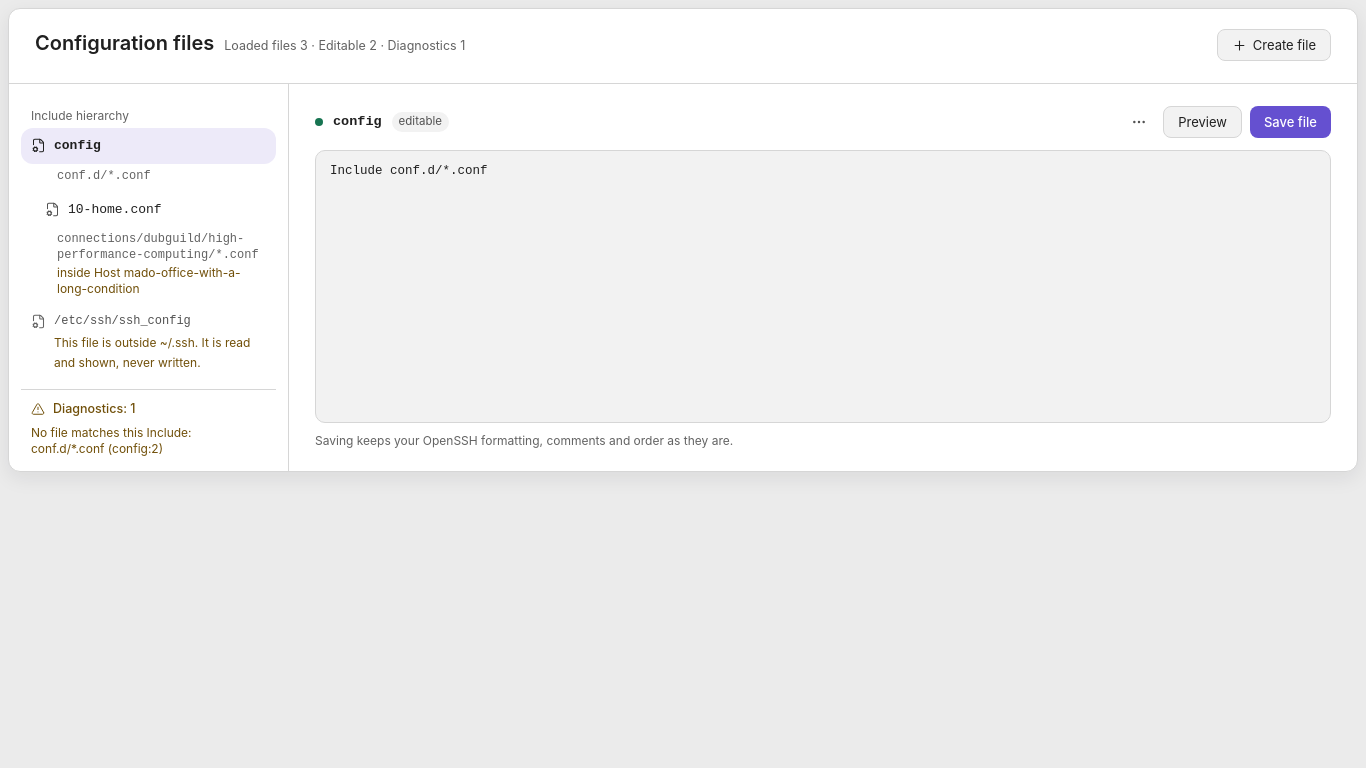
Test: ConfigExplorer › explains a path outside ~/.ssh under the field and sends nothing
This screenshot has width=1366, height=768.
Click the button named "Actions for config" at (1139, 122), box [1123,106,1155,138]
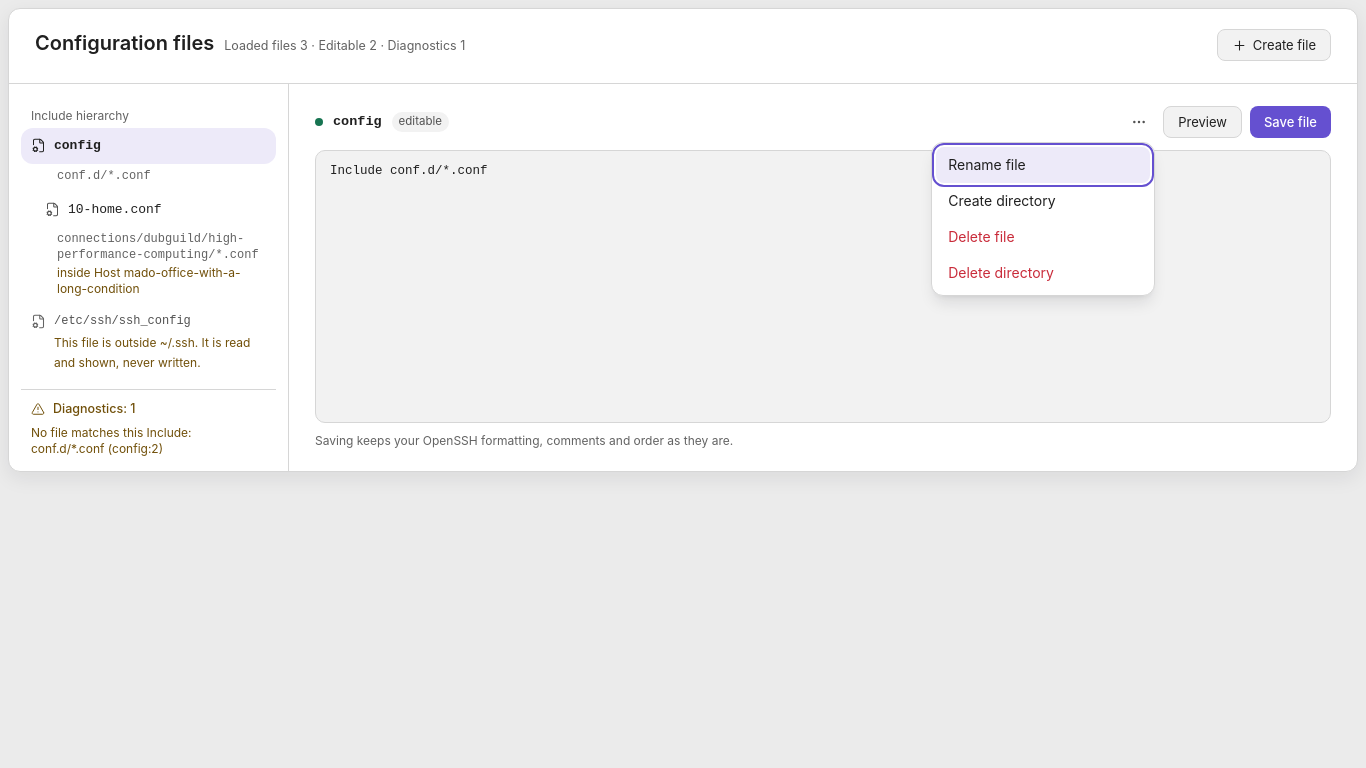
Click the menu item "Create directory" at (1043, 201), box [936,183,1150,219]
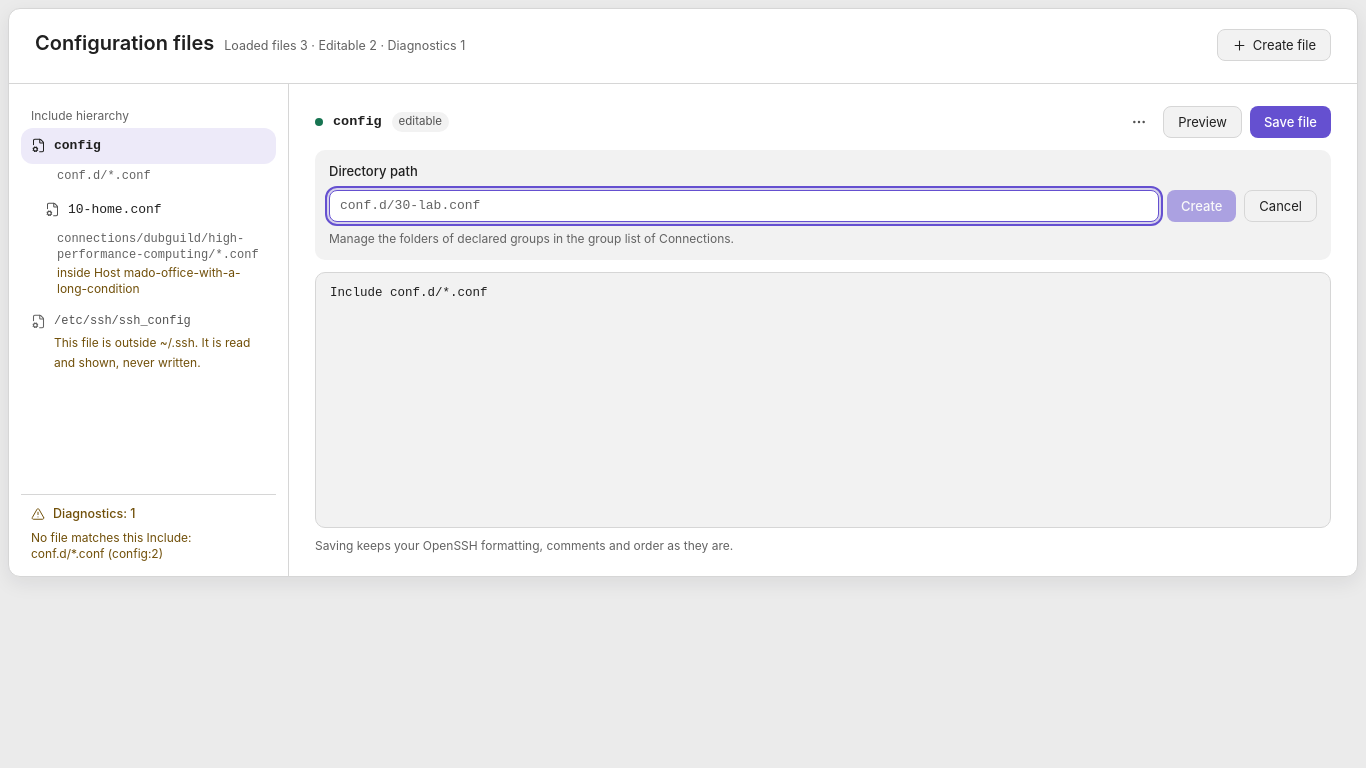
Type "~/notes" into the field labelled "Directory path" at (744, 206), box [329,190,1159,222]
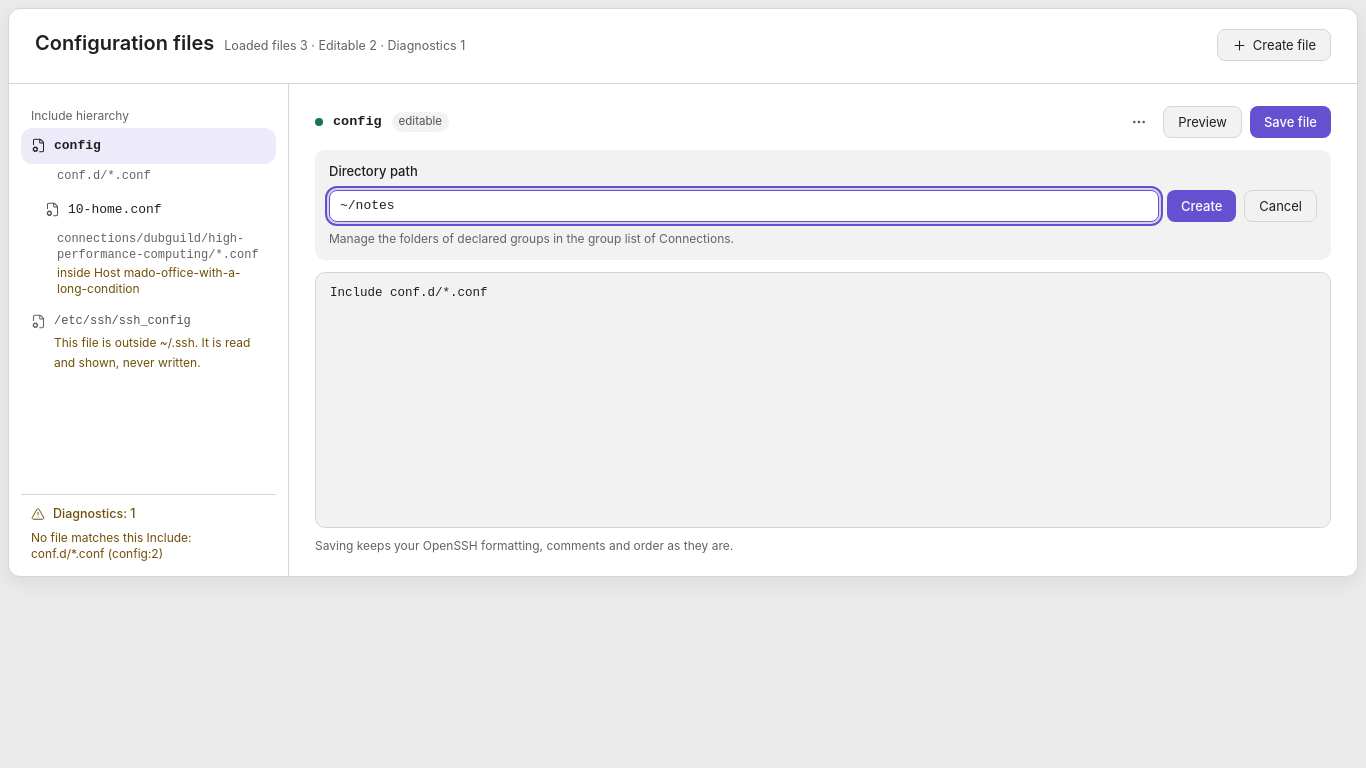
Click the button "Create" at (1202, 206), box [1167,190,1236,222]
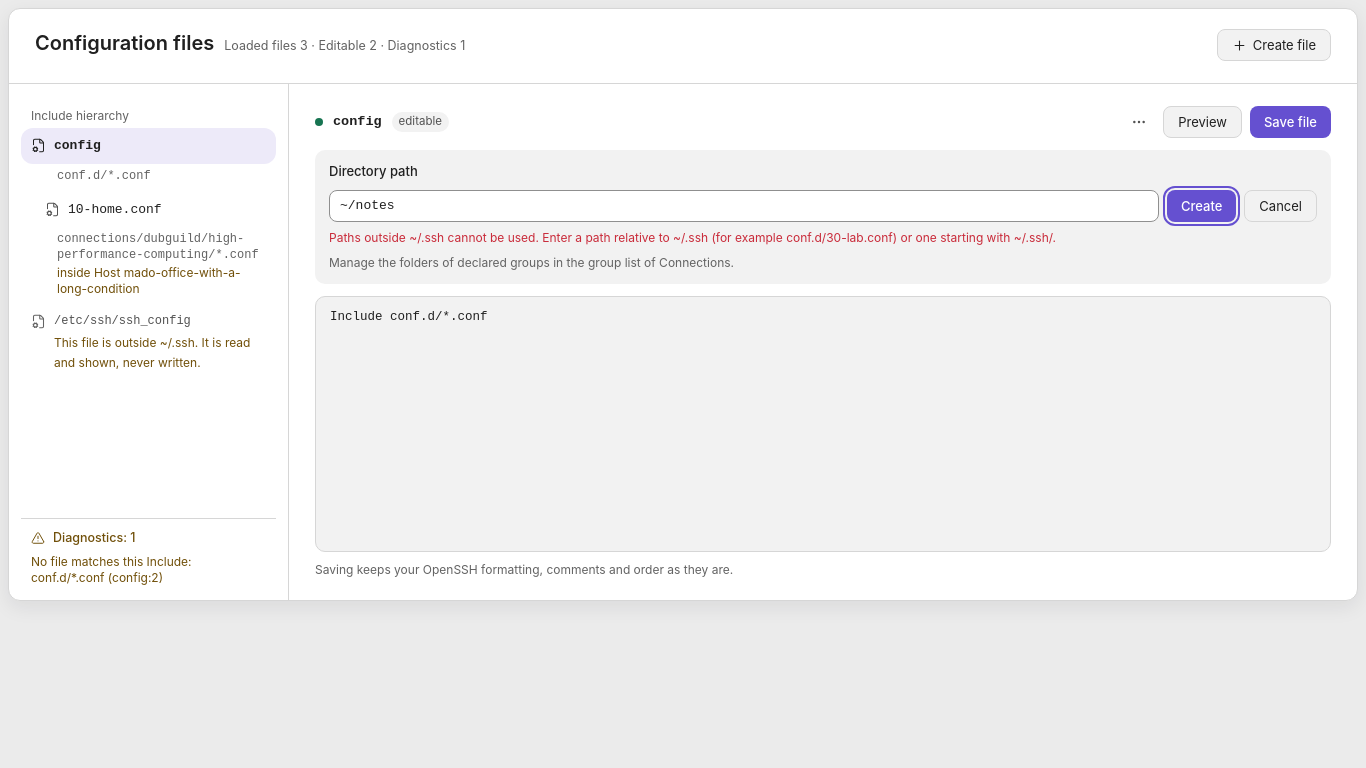
Check: the message shows "Paths outside ~/.ssh cannot be used.", box [329,230,1056,244]
Type "x" into the field labelled "Directory path" at (744, 206), box [329,190,1159,222]
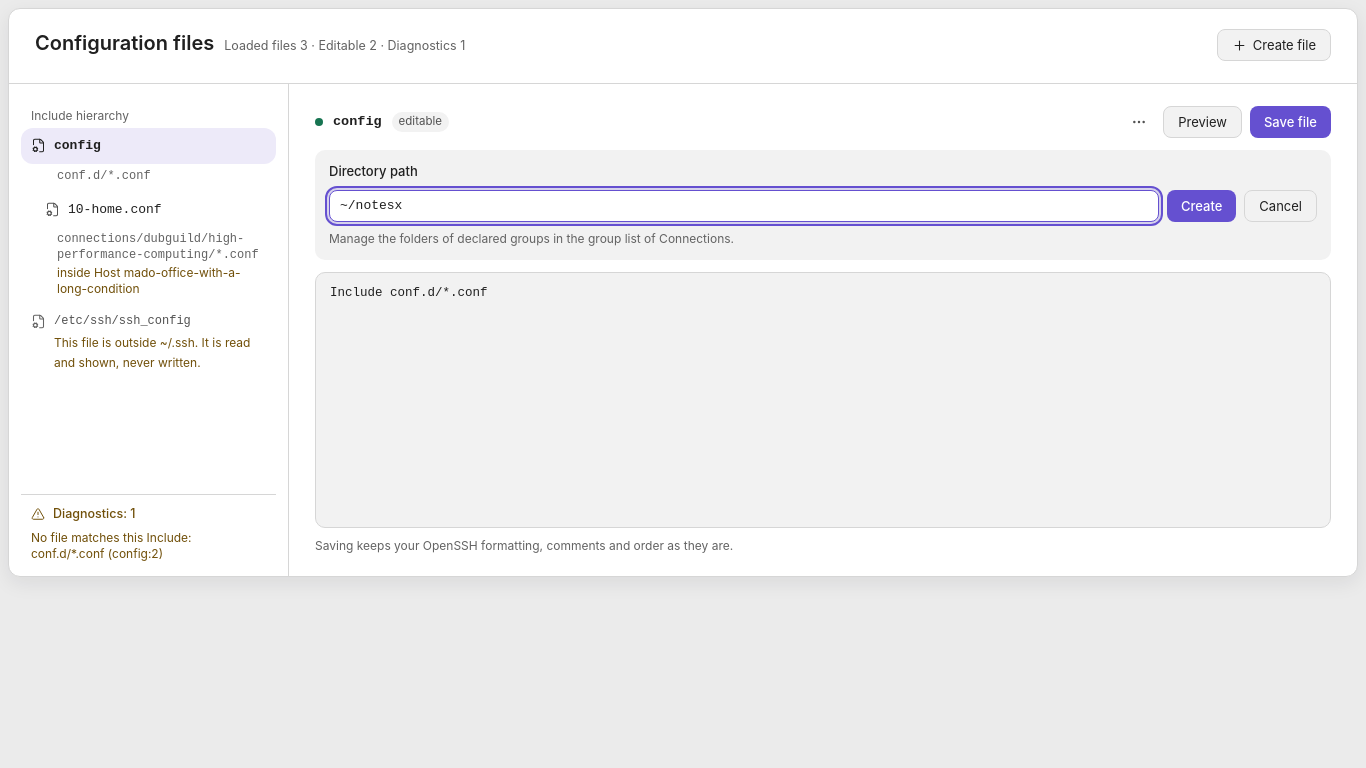
Check: the message is gone
